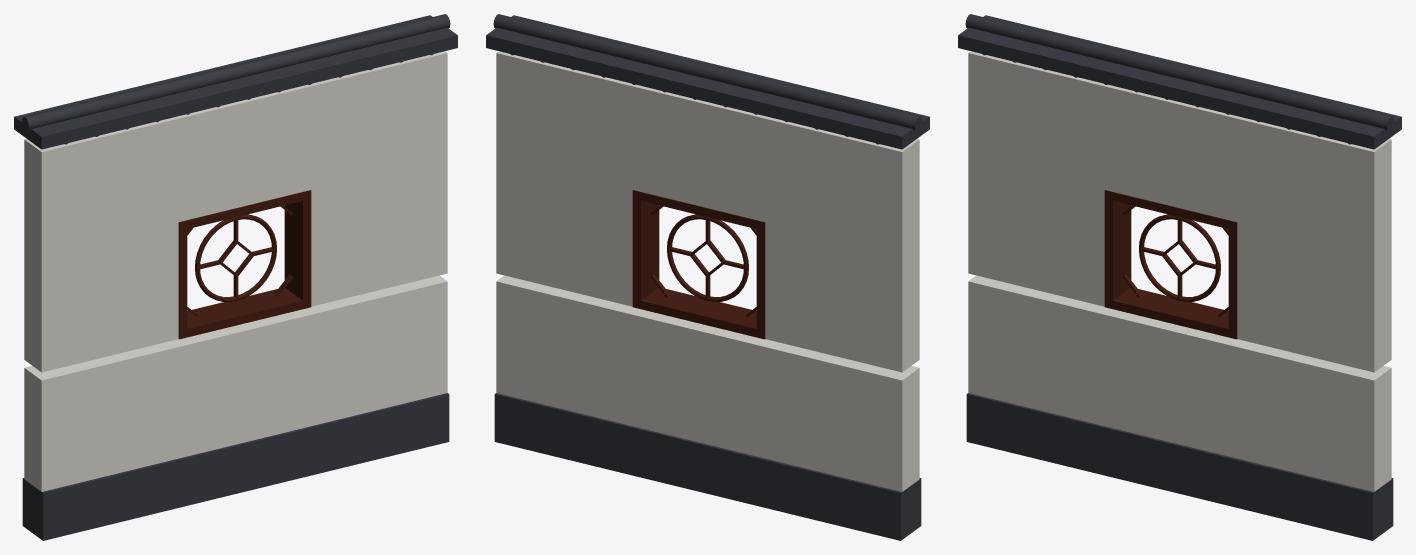
Rendered from pal1-courtyard-garden-wall.glb.
The picture shows the model from 3 angles, left to right: view 1: azimuth 30°, elevation 25°; view 2: azimuth 150°, elevation 25°; view 3: azimuth 330°, elevation 25°; orthographic projection.
Parts seen in each view (by area): view 1: Pal1GardenWall; view 2: Pal1GardenWall; view 3: Pal1GardenWall.
Part boxes in pixels (x1,y1,x2,y2): Pal1GardenWall: (14, 14, 457, 540); Pal1GardenWall: (486, 14, 929, 540); Pal1GardenWall: (958, 14, 1401, 540).
Size of what is drawn, in the model's own units: 4.15 by 3.93 by 0.47.
